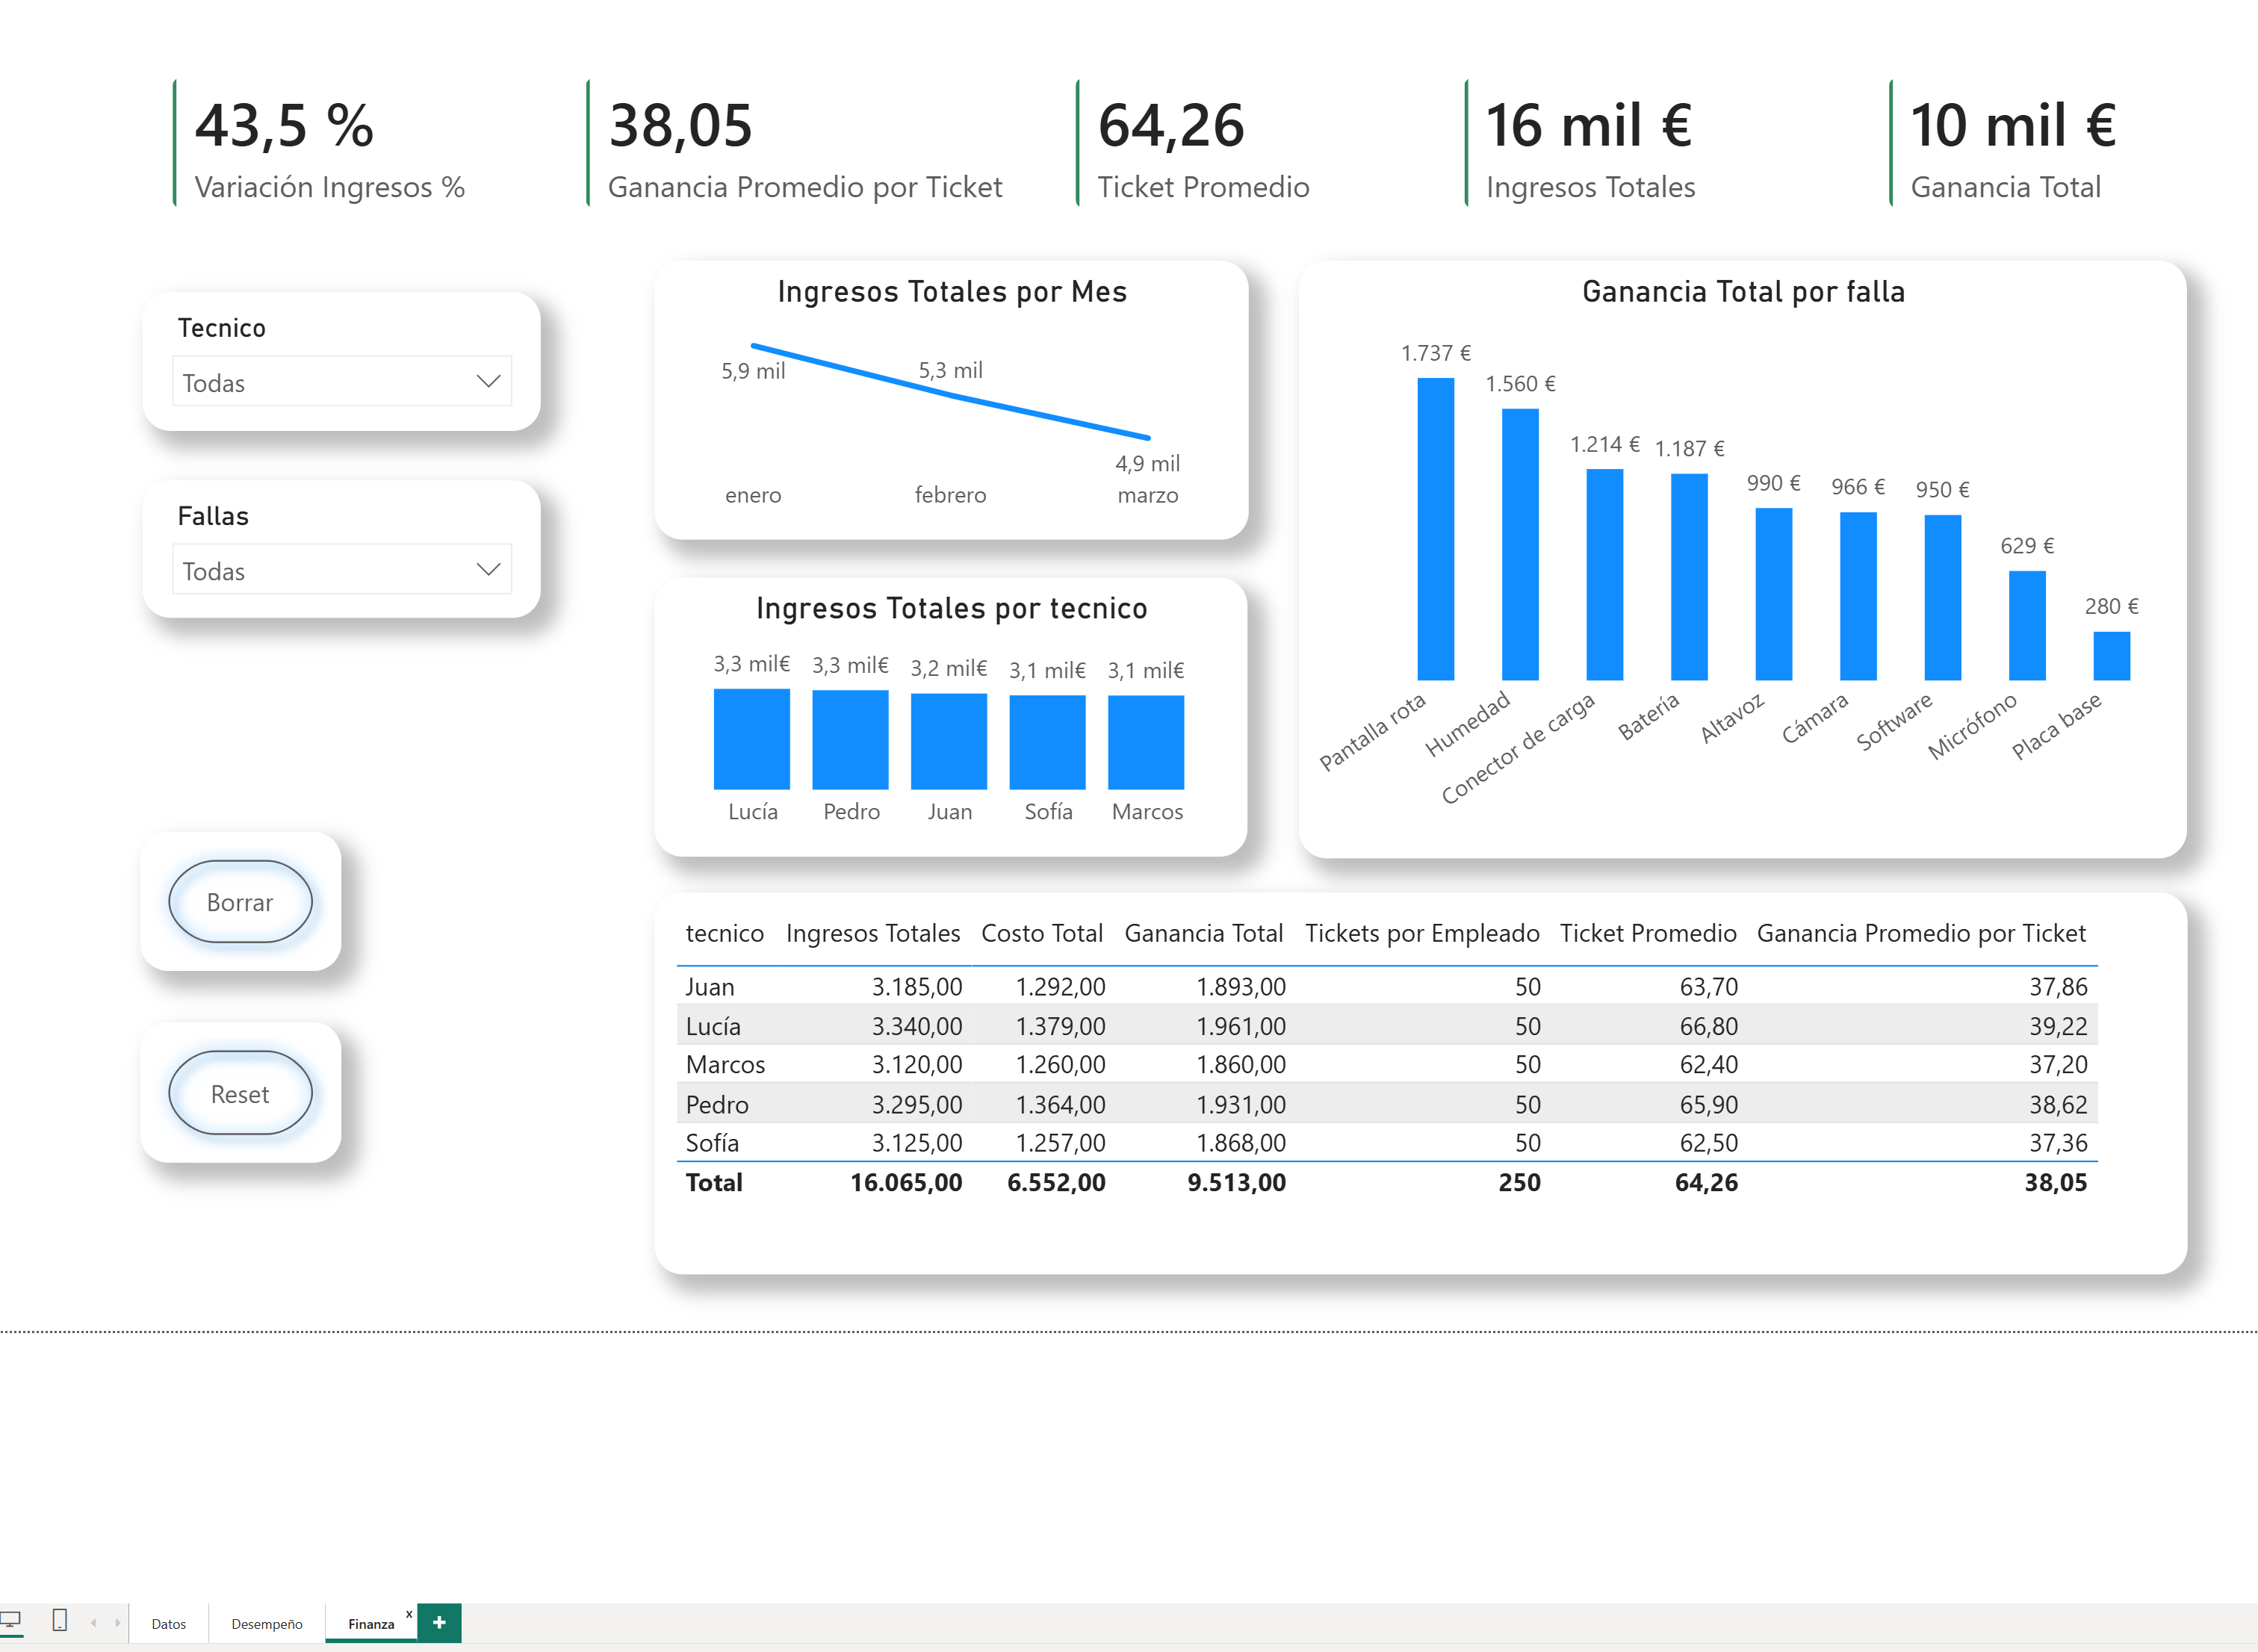

The page's visual inventory and layout, read from the dashboard file:
{"tool":"powerbi","page":{"name":"Finanza","canvas":[1280,720],"ordinal":2},"visuals":[{"type":"cardVisual","fields":{"Data":["Medidas.Ingresos Totales"]},"box":[777.3,28.7,187.3,104.7],"z":0},{"type":"cardVisual","fields":{"Data":["Medidas.Ganancia Total"]},"box":[1005.9,28.7,184.5,104.7],"z":1000},{"type":"cardVisual","fields":{"Data":["Medidas.Ticket Promedio"]},"box":[568.6,28.7,180.2,104.7],"z":2000},{"type":"cardVisual","fields":{"Data":["Medidas.Ganancia Promedio por Ticket"]},"box":[305.1,28.7,272,104.7],"z":3000},{"type":"cardVisual","fields":{"Data":["Medidas.Variación Ingresos %"]},"box":[82.9,28.7,206.5,104.7],"z":4000},{"type":"lineChart","fields":{"Category":["Calendario.Date.Variación.Jerarquía de fechas.Año","Calendario.Date.Variación.Jerarquía de fechas.Mes","Calendario.Date.Variación.Jerarquía de fechas.Día"],"Y":["Medidas.Ingresos Totales"]},"box":[359.5,144.3,319.1,150.3],"z":5000},{"type":"columnChart","fields":{"Category":["tickets_reparacion.falla"],"Y":["Medidas.Ganancia Total"]},"box":[705.8,144.3,477.6,321.1],"z":6000},{"type":"columnChart","fields":{"Y":["Medidas.Ingresos Totales"],"Category":["tickets_reparacion.tecnico"]},"box":[359.6,315.1,318.7,150.3],"z":7000},{"type":"tableEx","fields":{"Values":["tickets_reparacion.tecnico","Medidas.Ingresos Totales","Medidas.Costo Total","Medidas.Ganancia Total","Medidas.Tickets por Empleado","Medidas.Ticket Promedio","Medidas.Ganancia Promedio por Ticket"]},"box":[359.6,484.2,823.9,205.4],"z":8000},{"type":"actionButton","box":[83.4,452,107.8,74.8],"z":9000},{"type":"actionButton","box":[83.4,554.3,107.8,75.5],"z":10000},{"type":"slicer","fields":{"Values":["tickets_reparacion.tecnico"]},"box":[84.1,161.6,214,74.8],"z":11000},{"type":"slicer","fields":{"Values":["tickets_reparacion.falla"]},"box":[84.1,262.3,214,74],"z":12000}]}

Visuals, with their boxes on the page's 1280x720 design canvas (x1, y1, x2, y2). These are canvas units, not pixel positions in the 2258x1652 screenshot, which may show the page scaled, cropped or inside an application window:
cardVisual - Medidas.Ingresos Totales: 777/29/965/133
cardVisual - Medidas.Ganancia Total: 1006/29/1190/133
cardVisual - Medidas.Ticket Promedio: 569/29/749/133
cardVisual - Medidas.Ganancia Promedio por Ticket: 305/29/577/133
cardVisual - Medidas.Variación Ingresos %: 83/29/289/133
lineChart - Calendario.Date.Variación.Jerarquía de fechas.Año x Calendario.Date.Variación.Jerarquía de fechas.Mes: 360/144/679/295
columnChart - tickets_reparacion.falla x Medidas.Ganancia Total: 706/144/1183/465
columnChart - Medidas.Ingresos Totales x tickets_reparacion.tecnico: 360/315/678/465
tableEx - tickets_reparacion.tecnico x Medidas.Ingresos Totales: 360/484/1184/690
actionButton: 83/452/191/527
actionButton: 83/554/191/630
slicer - tickets_reparacion.tecnico: 84/162/298/236
slicer - tickets_reparacion.falla: 84/262/298/336
